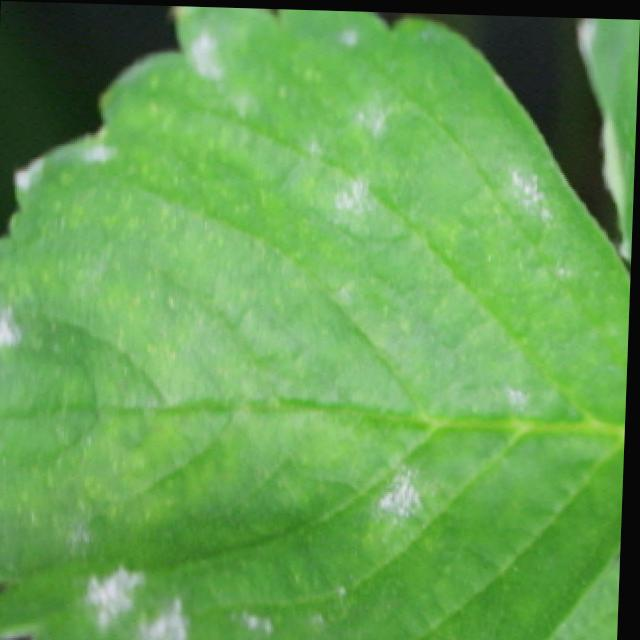Powdery Mildew Leaf: (0, 4, 633, 640)
